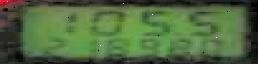-: (170, 28, 182, 38)
0: (83, 8, 124, 35), (192, 38, 223, 58)
1: (56, 9, 79, 33), (81, 35, 98, 59)
2: (35, 34, 66, 57)
5: (182, 8, 223, 37), (134, 7, 172, 37)
8: (99, 35, 127, 58), (162, 38, 192, 58)
9: (134, 37, 157, 58)
